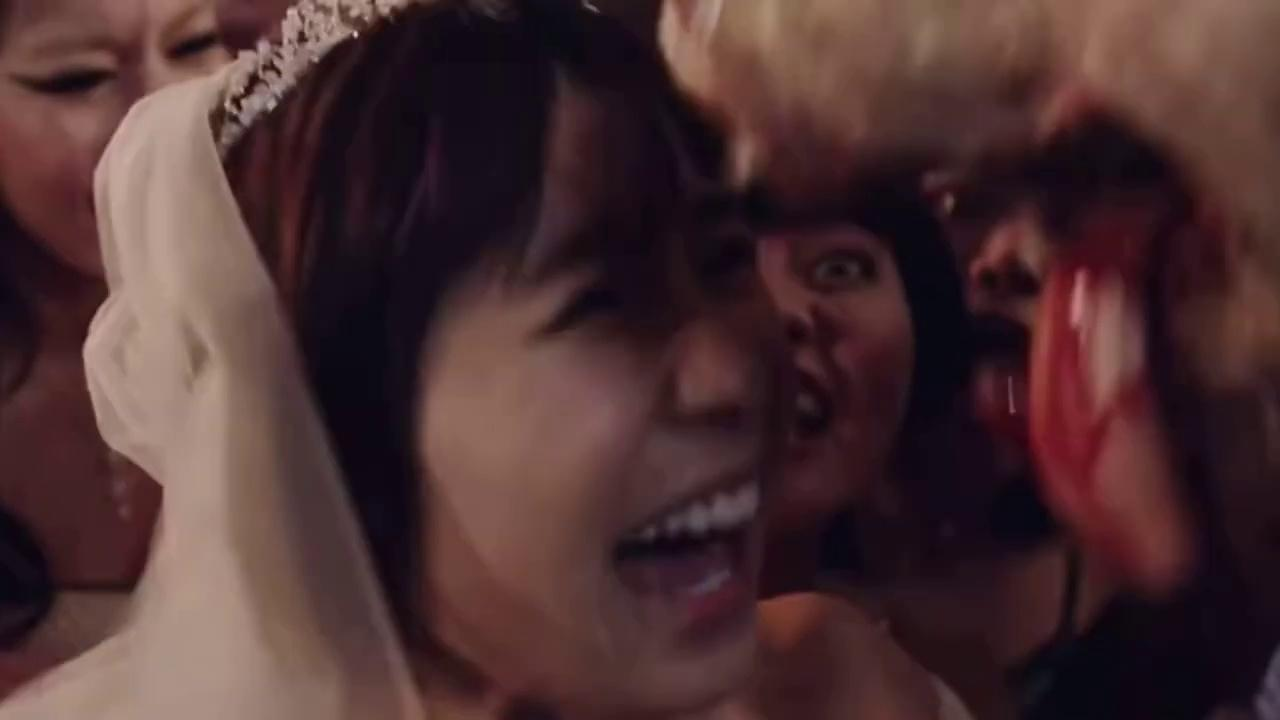Fire: (1032, 209, 1199, 596)
